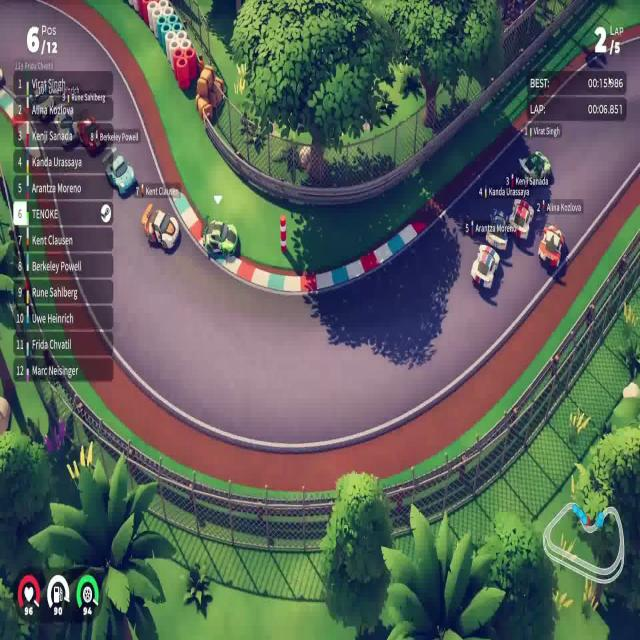car: (140, 202, 180, 253), (102, 147, 136, 197), (202, 218, 238, 260), (470, 243, 500, 291), (537, 222, 565, 271), (518, 148, 552, 182), (508, 197, 534, 241)
